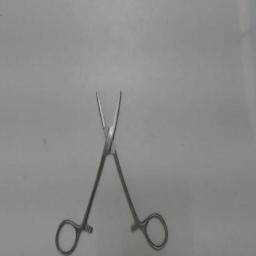Mayo Needle Holder: (48, 82, 172, 254)
